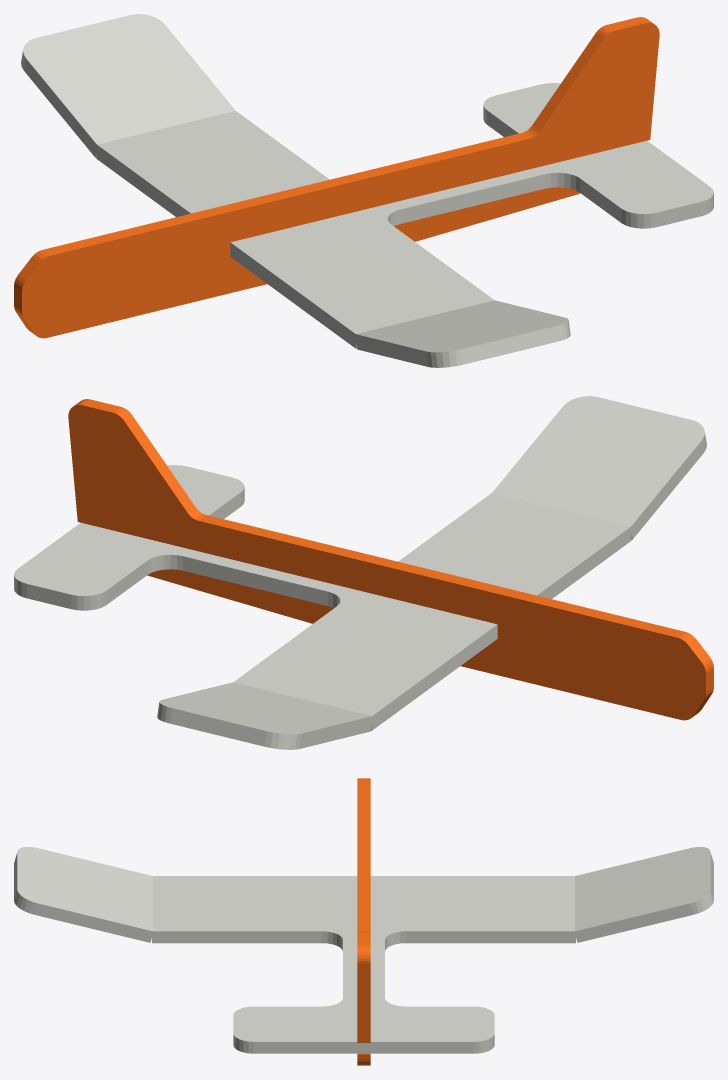
3 views of the same model, one above another, from view 1: azimuth 30°, elevation 25°; view 2: azimuth 150°, elevation 25°; view 3: azimuth 270°, elevation 25° (orthographic). The views are drawn at different scales.
Visible parts, largest first — view 1: H, V; view 2: H, V; view 3: H, V.
Part boxes in pixels (x1,y1,x2,y2): H: [21, 14, 713, 367]; V: [14, 17, 659, 338]; H: [14, 396, 706, 749]; V: [68, 399, 713, 720]; H: [14, 846, 713, 1053]; V: [357, 778, 370, 1065].
Size of the model in its own units: 0.2295 by 0.058 by 0.2676.
